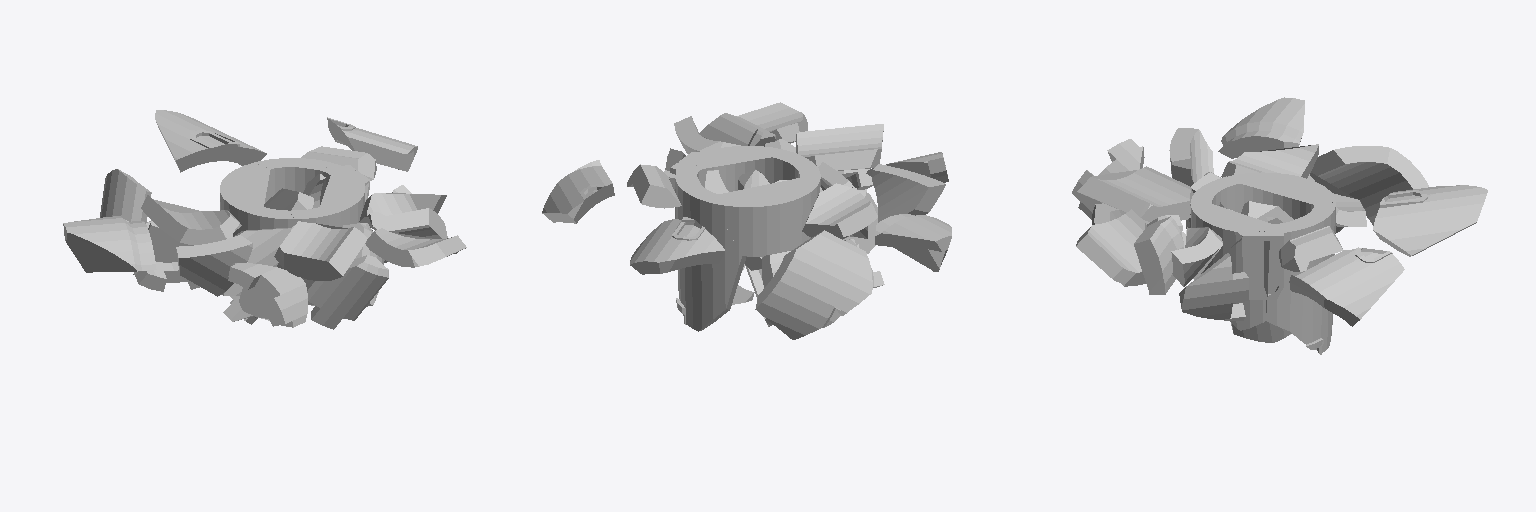
The model's file is destruction_tower_000062.obj.
The picture shows the model from 3 angles: view 1: azimuth 30°, elevation 25°; view 2: azimuth 150°, elevation 25°; view 3: azimuth 270°, elevation 25°; orthographic projection.
Visible parts, largest first — view 1: tower.001_cell.005_Mesh.005, tower.001_cell.024_Mesh.024, tower.001_cell.006_Mesh.006, tower.001_cell.025_Mesh.025, tower.001_cell.011_Mesh.011, tower.001_cell.009_Mesh.009, tower.001_cell.002_Mesh.002, tower.001_cell.021_Mesh.021, tower.001_cell.028_Mesh.028, tower.001_cell.012_Mesh.012, tower.001_cell.015_Mesh.015, tower.001_cell.003_Mesh.003 (+8 smaller); view 2: tower.001_cell.003_Mesh.003, tower.001_cell.015_Mesh.015, tower.001_cell.017_Mesh.017, tower.001_cell.025_Mesh.025, tower.001_cell.024_Mesh.024, tower.001_cell.028_Mesh.028, tower.001_cell.005_Mesh.005, tower.001_cell.002_Mesh.002, tower.001_cell.009_Mesh.009, tower.001_cell.012_Mesh.012, tower.001_cell_Mesh, tower.001_cell.016_Mesh.016 (+6 smaller); view 3: tower.001_cell.025_Mesh.025, tower.001_cell.012_Mesh.012, tower.001_cell.003_Mesh.003, tower.001_cell.024_Mesh.024, tower.001_cell.005_Mesh.005, tower.001_cell.021_Mesh.021, tower.001_cell.030_Mesh.030, tower.001_cell.017_Mesh.017, tower.001_cell.015_Mesh.015, tower.001_cell.020_Mesh.020, tower.001_cell_Mesh, tower.001_cell.028_Mesh.028 (+10 smaller).
Part boxes in pixels (left/top/right/bottom): tower.001_cell.005_Mesh.005: left=63, top=216, right=156, bottom=272; tower.001_cell.024_Mesh.024: left=274, top=221, right=367, bottom=280; tower.001_cell.006_Mesh.006: left=228, top=263, right=307, bottom=327; tower.001_cell.025_Mesh.025: left=155, top=110, right=266, bottom=172; tower.001_cell.011_Mesh.011: left=306, top=255, right=388, bottom=329; tower.001_cell.009_Mesh.009: left=141, top=195, right=241, bottom=244; tower.001_cell.002_Mesh.002: left=176, top=235, right=252, bottom=296; tower.001_cell.021_Mesh.021: left=365, top=228, right=466, bottom=267; tower.001_cell.028_Mesh.028: left=289, top=175, right=369, bottom=227; tower.001_cell.012_Mesh.012: left=327, top=117, right=417, bottom=171; tower.001_cell.015_Mesh.015: left=220, top=163, right=270, bottom=236; tower.001_cell.003_Mesh.003: left=100, top=169, right=151, bottom=223; tower.001_cell.003_Mesh.003: left=755, top=230, right=872, bottom=339; tower.001_cell.015_Mesh.015: left=714, top=178, right=818, bottom=257; tower.001_cell.017_Mesh.017: left=675, top=172, right=746, bottom=331; tower.001_cell.025_Mesh.025: left=630, top=217, right=724, bottom=274; tower.001_cell.024_Mesh.024: left=796, top=124, right=883, bottom=173; tower.001_cell.028_Mesh.028: left=691, top=146, right=809, bottom=191; tower.001_cell.005_Mesh.005: left=875, top=214, right=951, bottom=271; tower.001_cell.002_Mesh.002: left=872, top=164, right=945, bottom=222; tower.001_cell.009_Mesh.009: left=802, top=183, right=877, bottom=239; tower.001_cell.012_Mesh.012: left=542, top=160, right=614, bottom=223; tower.001_cell_Mesh: left=699, top=113, right=775, bottom=145; tower.001_cell.016_Mesh.016: left=627, top=164, right=681, bottom=208; tower.001_cell.025_Mesh.025: left=1373, top=185, right=1487, bottom=256; tower.001_cell.012_Mesh.012: left=1289, top=247, right=1404, bottom=326; tower.001_cell.003_Mesh.003: left=1311, top=146, right=1428, bottom=225; tower.001_cell.024_Mesh.024: left=1077, top=166, right=1193, bottom=221; tower.001_cell.005_Mesh.005: left=1218, top=97, right=1304, bottom=158; tower.001_cell.021_Mesh.021: left=1076, top=209, right=1146, bottom=286; tower.001_cell.030_Mesh.030: left=1179, top=253, right=1248, bottom=320; tower.001_cell.017_Mesh.017: left=1290, top=202, right=1335, bottom=354; tower.001_cell.015_Mesh.015: left=1240, top=172, right=1335, bottom=219; tower.001_cell.020_Mesh.020: left=1209, top=231, right=1269, bottom=330; tower.001_cell_Mesh: left=1134, top=216, right=1183, bottom=294; tower.001_cell.028_Mesh.028: left=1190, top=189, right=1270, bottom=273.
Size of the model in its own units: 126 by 44.86 by 122.